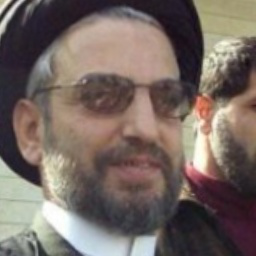Person: (6, 3, 237, 256)
